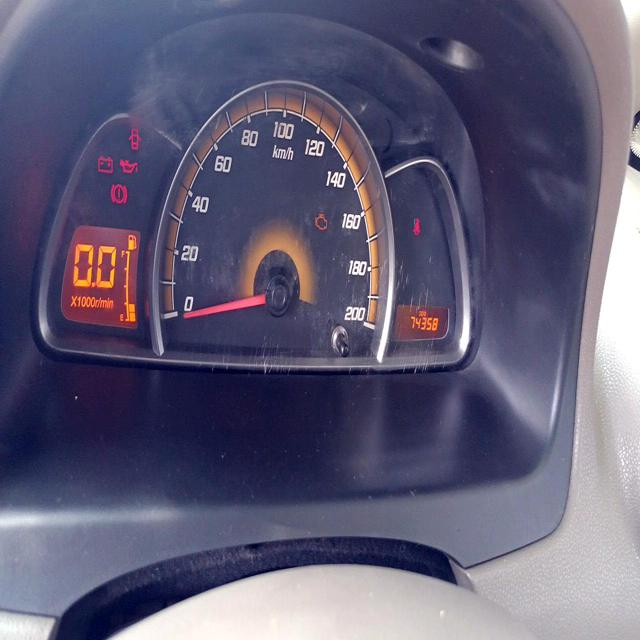odometer: (407, 314, 439, 336)
